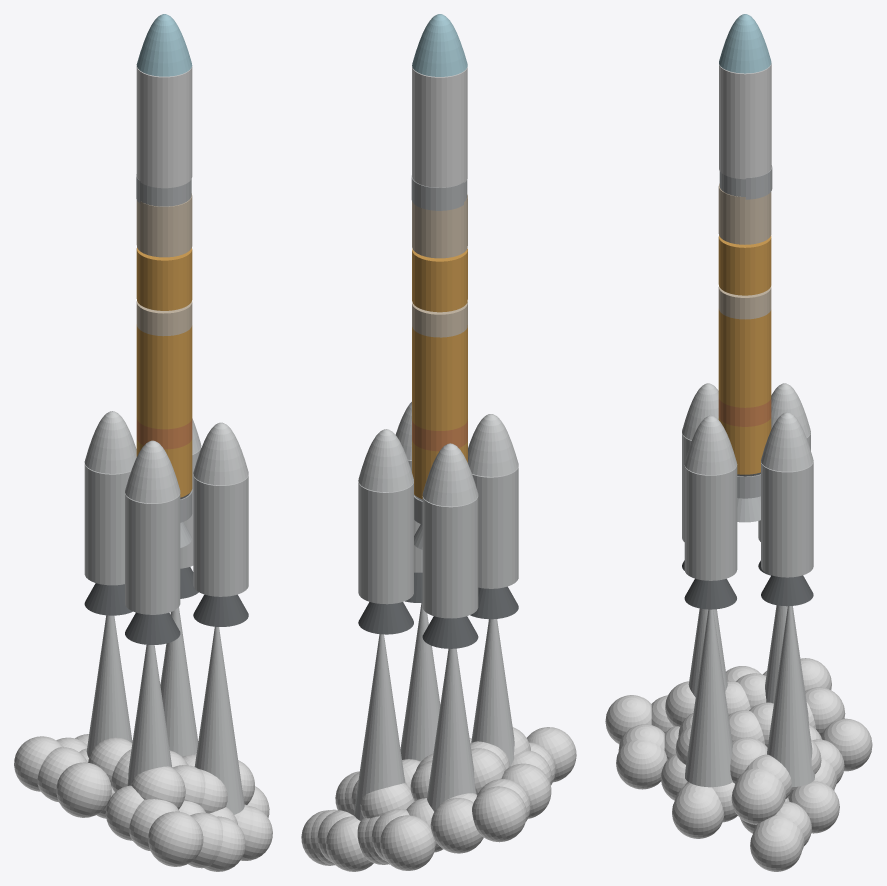
Rendered from Rocket.glb.
3 views of the same model, side by side, from view 1: azimuth 30°, elevation 25°; view 2: azimuth 150°, elevation 25°; view 3: azimuth 270°, elevation 25° (orthographic). The views are drawn at different scales.
Visible parts, largest first — view 1: Mesh_Mesh_head_geo.001_lambert2SG.001; view 2: Mesh_Mesh_head_geo.001_lambert2SG.001; view 3: Mesh_Mesh_head_geo.001_lambert2SG.001.
Boxes of the visible parts, x1,y1,x2,y2 form: Mesh_Mesh_head_geo.001_lambert2SG.001: (14, 14, 272, 871); Mesh_Mesh_head_geo.001_lambert2SG.001: (301, 14, 576, 871); Mesh_Mesh_head_geo.001_lambert2SG.001: (605, 14, 872, 871).
Bounding box in the file's own units: 96.68 × 340 × 101.
